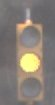Yellow: (11, 17, 52, 102)
